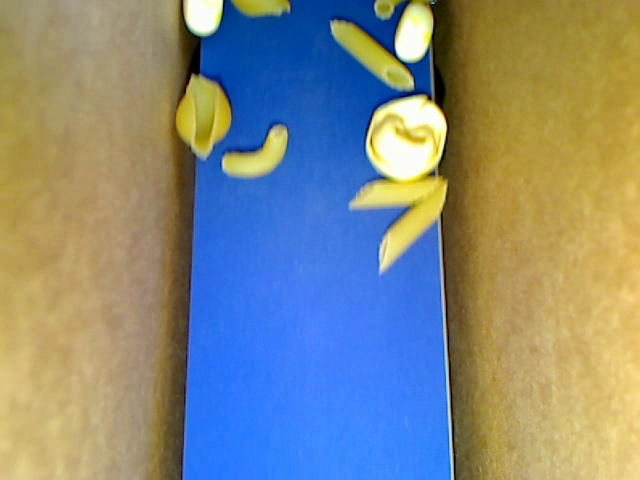elbow: (223, 124, 287, 179), (374, 1, 405, 19)
penne: (376, 180, 448, 274), (330, 19, 414, 89), (346, 174, 445, 211)
shell: (176, 73, 232, 159), (230, 1, 291, 19)
tortellini: (366, 94, 449, 180)
